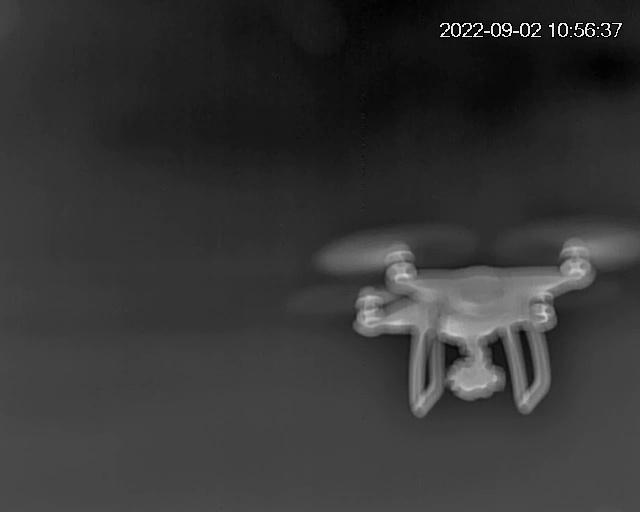DJI-Phantom: (324, 236, 640, 418)
